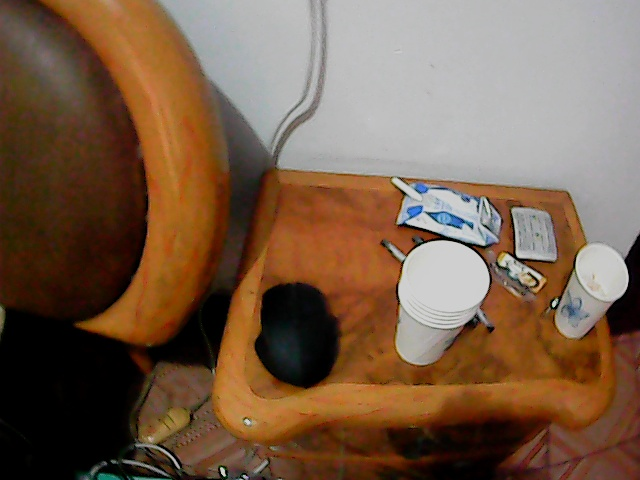cup: (393, 236, 492, 370)
mouse: (255, 278, 343, 387)
